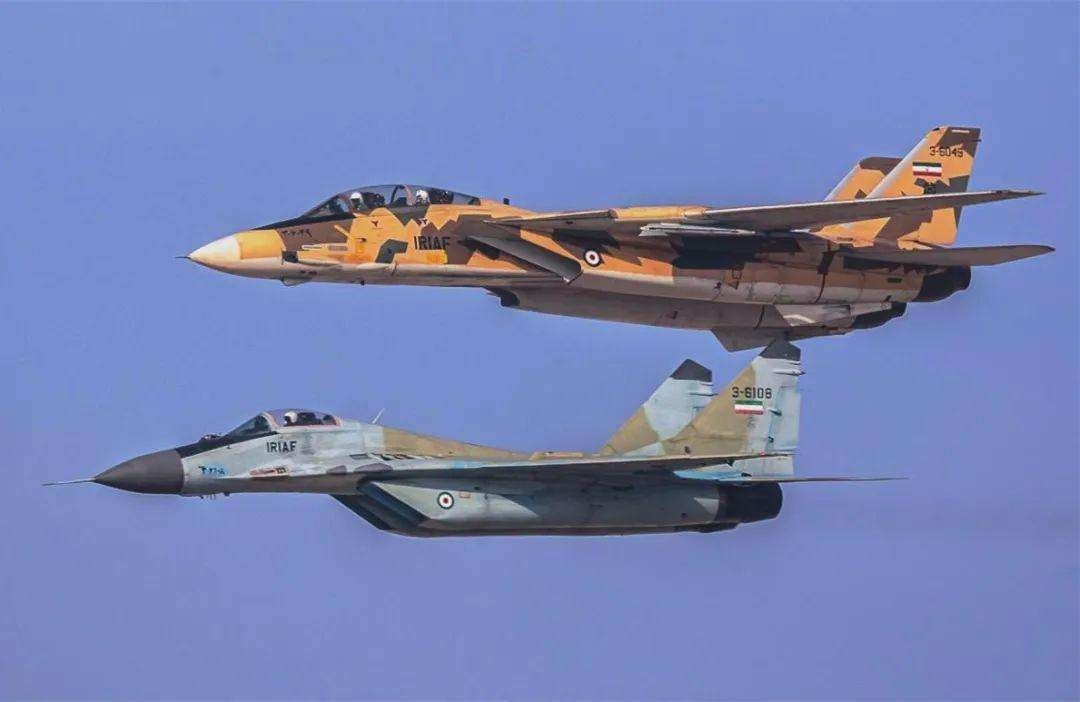airplane: (173, 119, 1057, 346), (30, 339, 906, 533)
